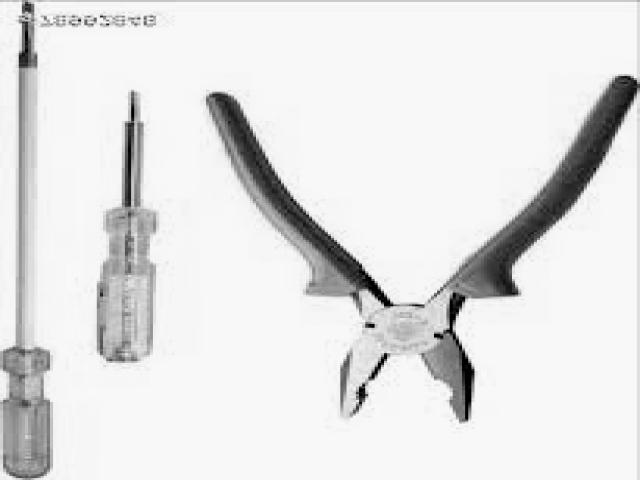Pliers: (207, 77, 638, 420)
Screwdriver: (0, 0, 51, 480), (99, 91, 156, 363)
